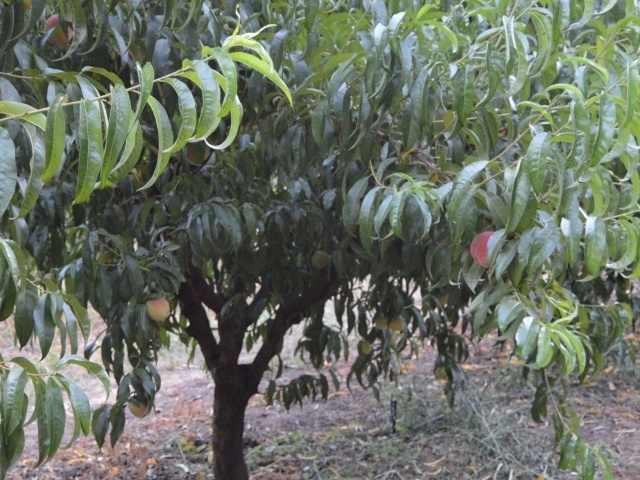peach: (39, 10, 78, 47), (467, 224, 496, 269), (140, 290, 173, 325), (126, 393, 151, 421), (308, 247, 332, 271)
